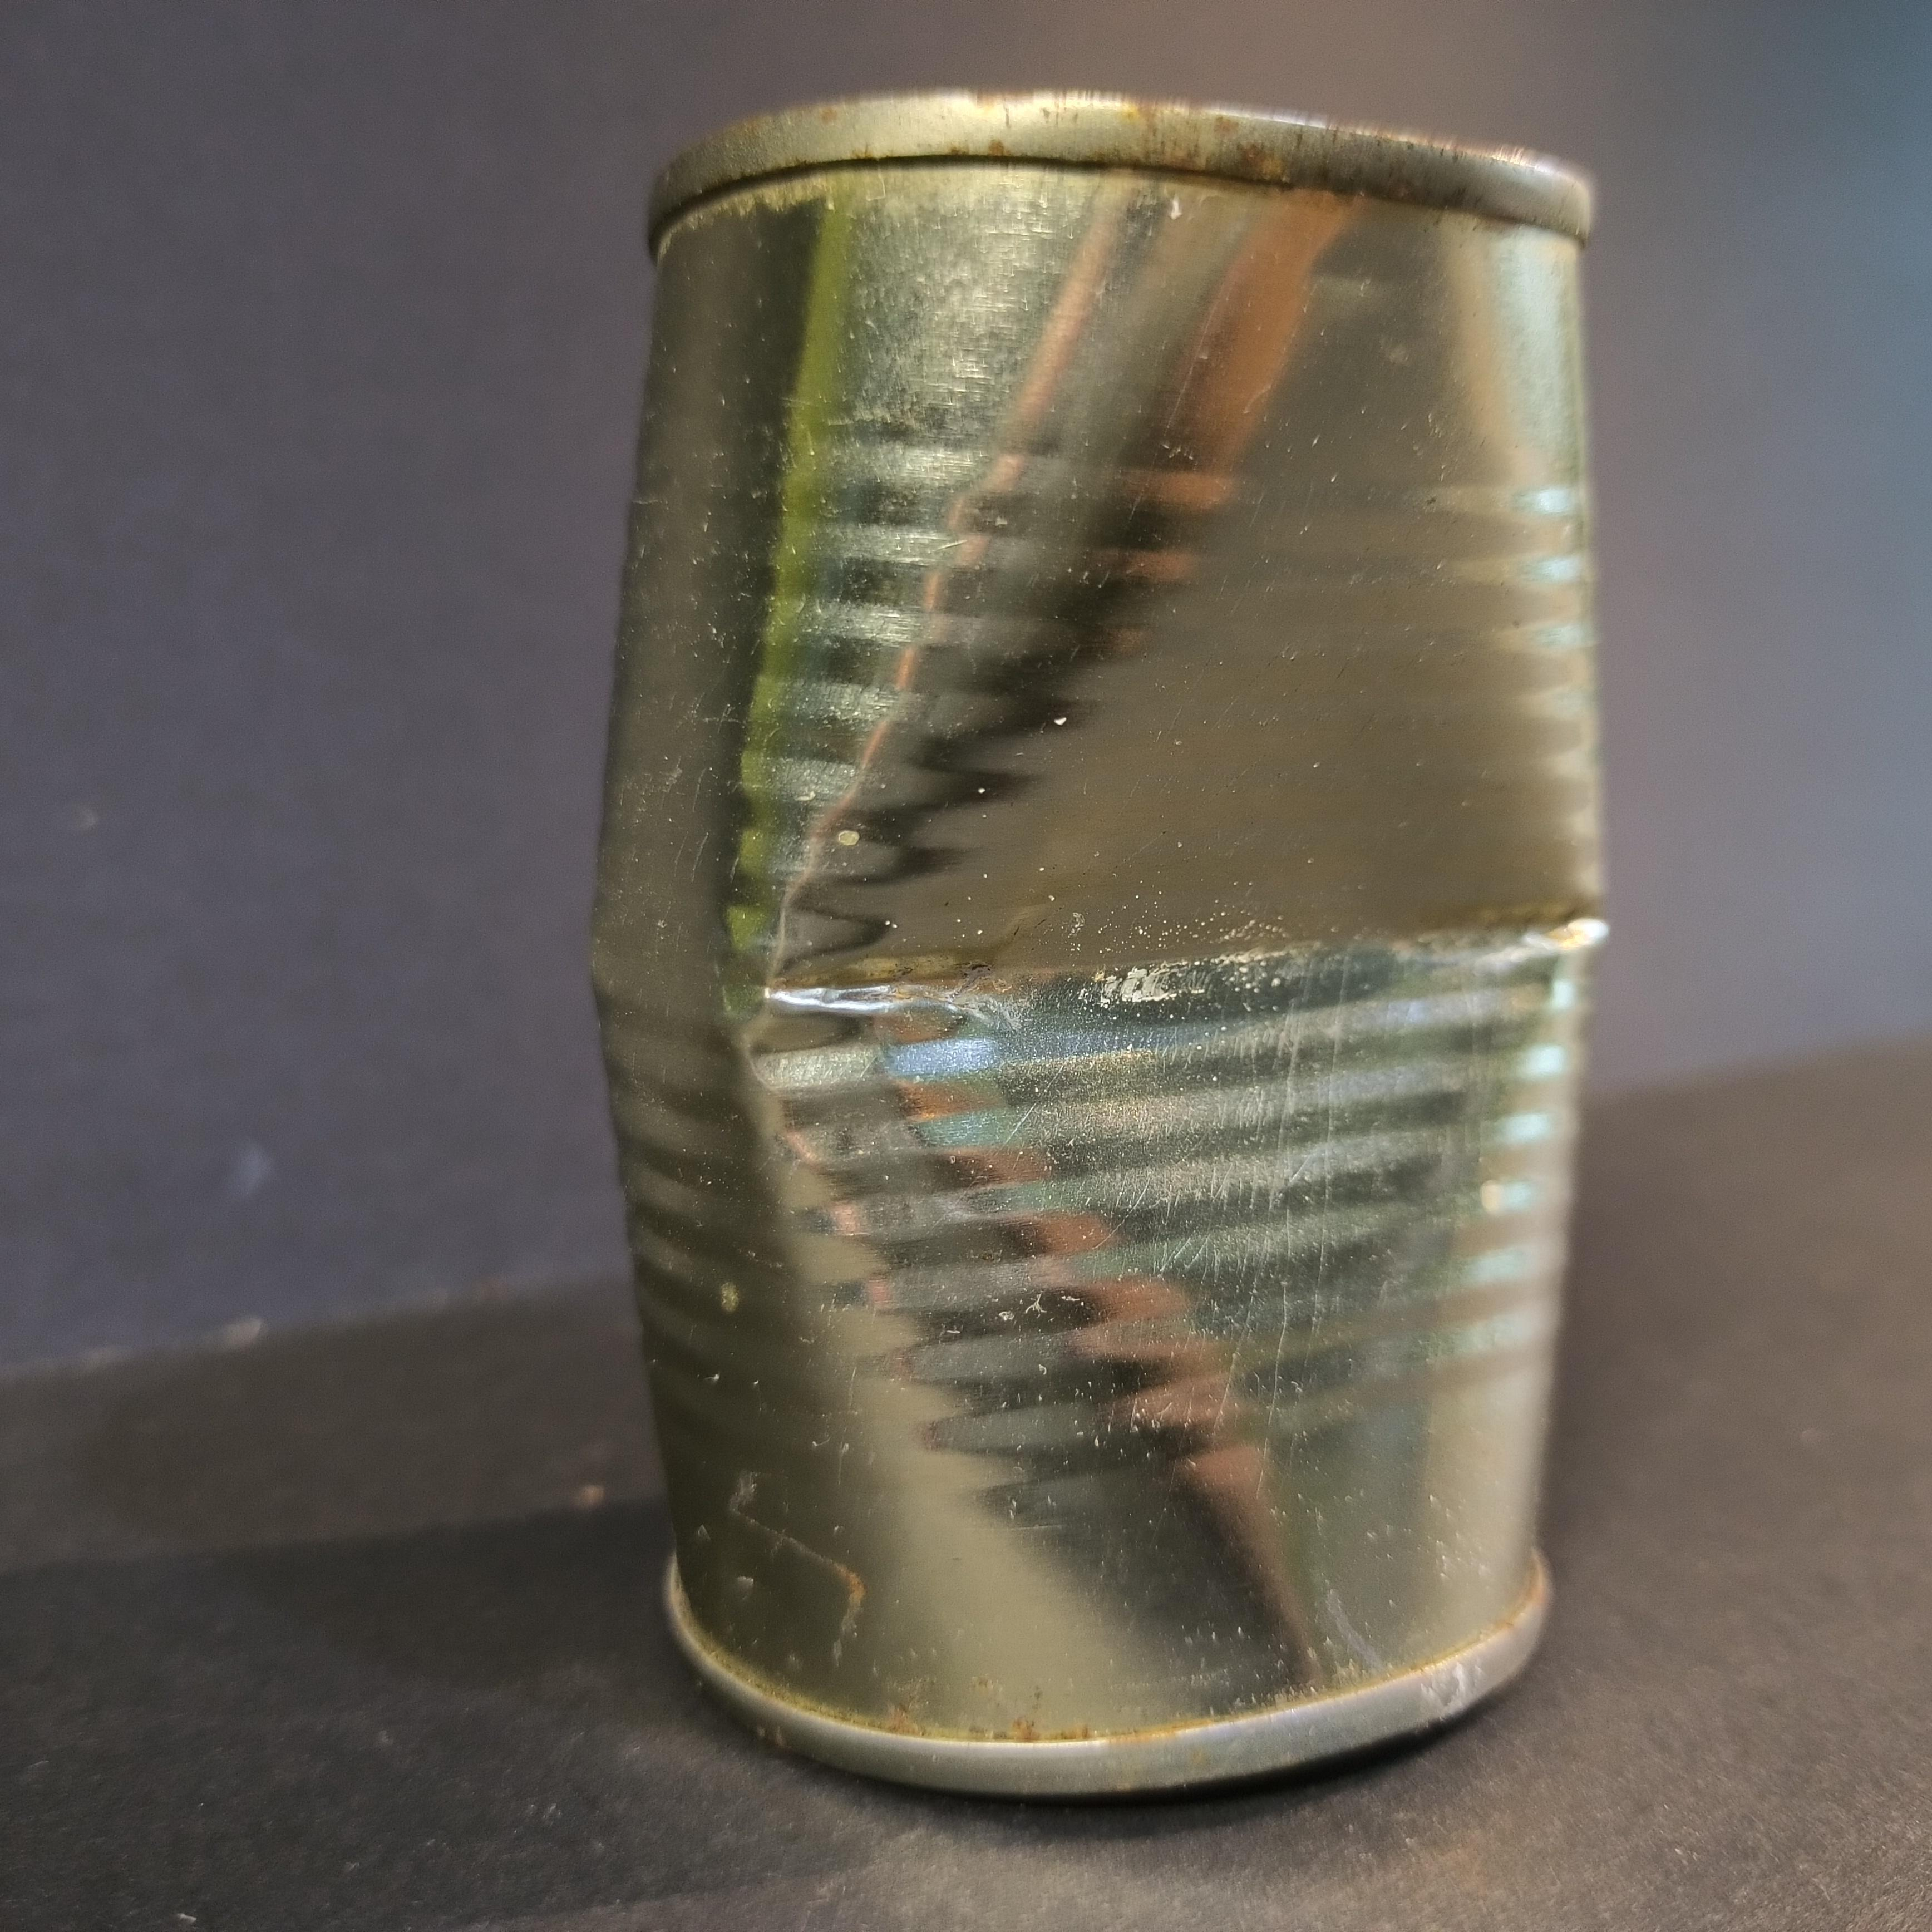Dented: (504, 67, 1663, 1813)
